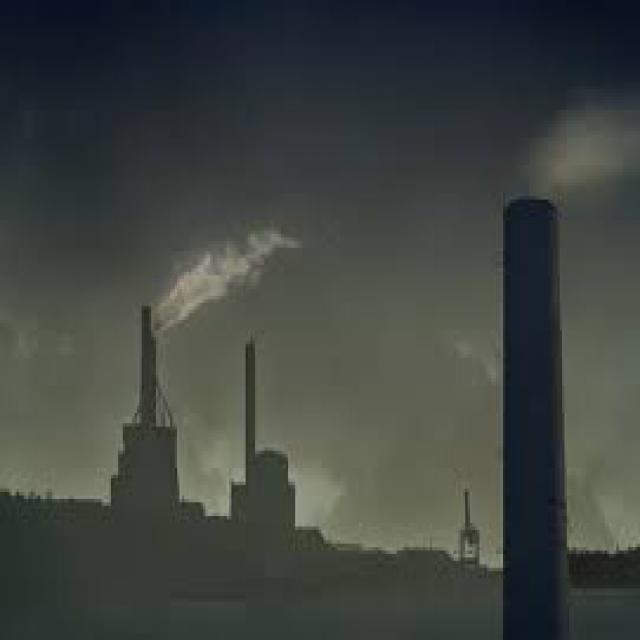Smoke: (495, 57, 640, 207), (145, 208, 298, 335)
